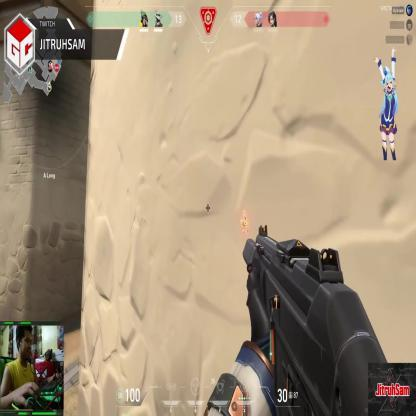enemy: (240, 209, 250, 233)
enemy_head: (242, 209, 246, 214)
